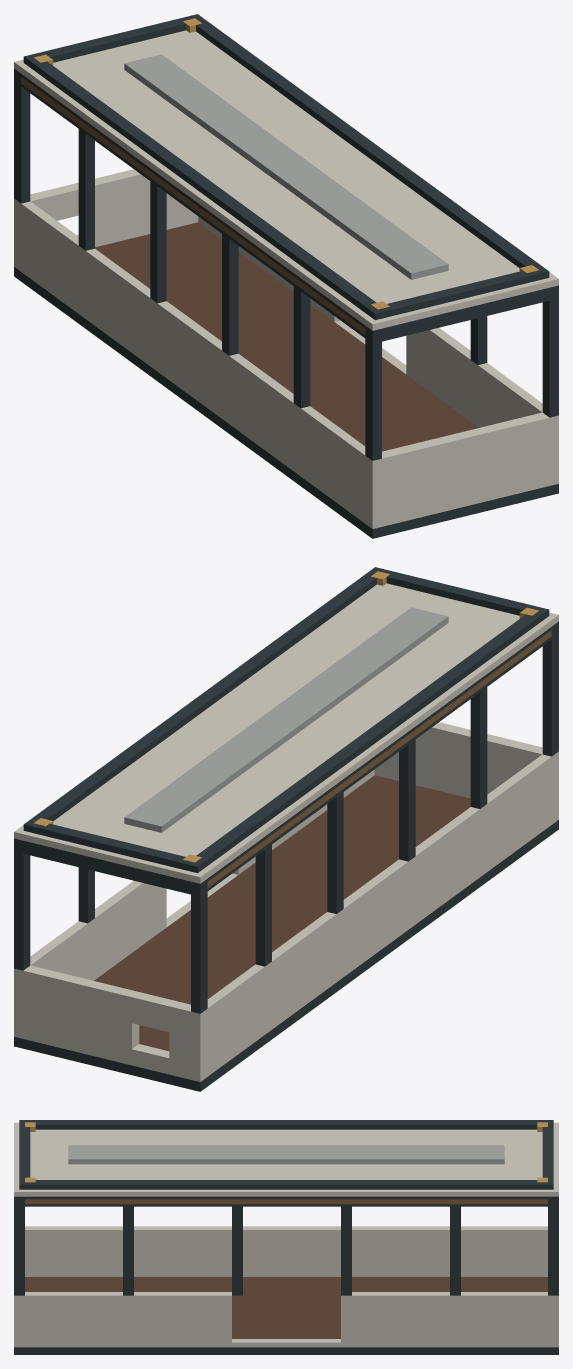
The picture shows the model from 3 angles, top to bottom: view 1: azimuth 30°, elevation 25°; view 2: azimuth 150°, elevation 25°; view 3: azimuth 270°, elevation 25°; orthographic projection. The views are drawn at different scales.
Parts seen in each view (by area): view 1: 既有公共载具体壳盒; view 2: 既有公共载具体壳盒; view 3: 既有公共载具体壳盒.
Part boxes in pixels (x1,y1,x2,y2): 既有公共载具体壳盒: (14,14,558,538); 既有公共载具体壳盒: (14,567,558,1091); 既有公共载具体壳盒: (14,1120,558,1354).
Bounding box in the file's own units: 3 × 3.4 × 10.
Materials: 6 (6 with a texture image).
